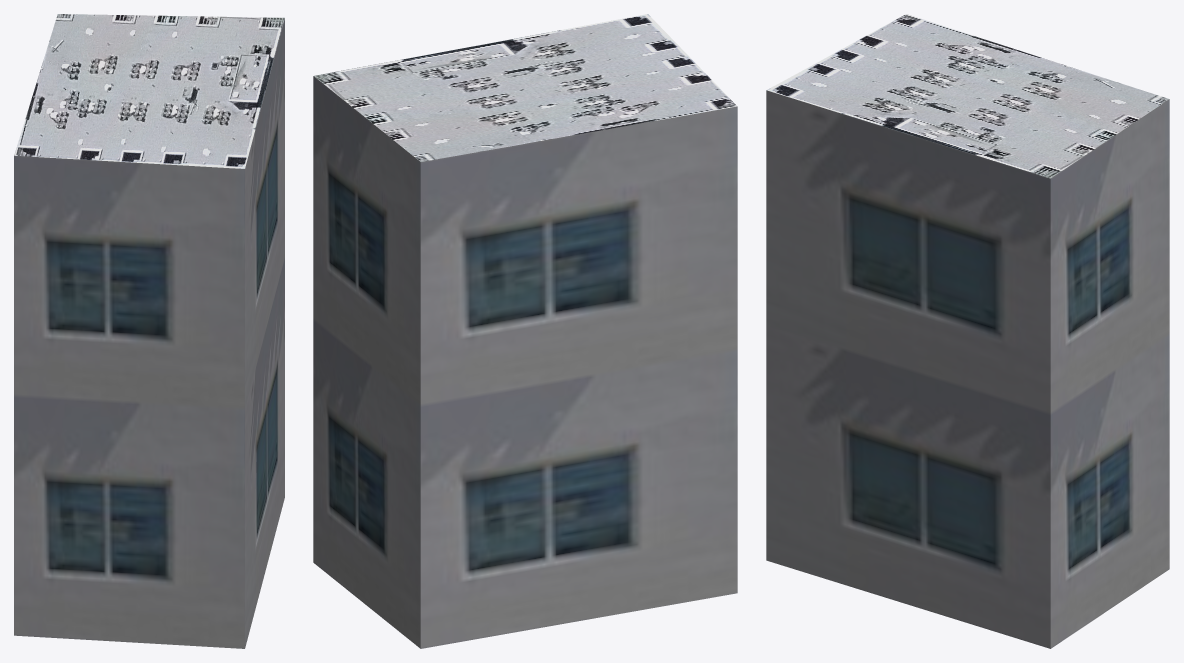
Rendered from ResTex__477.fbx.
3 renders of one model, left to right at view 1: azimuth 30°, elevation 25°; view 2: azimuth 150°, elevation 25°; view 3: azimuth 270°, elevation 25°, orthographic. The views are drawn at different scales.
Visible parts, largest first — view 1: CityEngineMaterial_10_m, CityEngineMaterial_4_m; view 2: CityEngineMaterial_10_m, CityEngineMaterial_4_m; view 3: CityEngineMaterial_10_m, CityEngineMaterial_4_m.
Boxes of the visible parts, <box> form: CityEngineMaterial_10_m: <box>14,18,284,648</box>; CityEngineMaterial_4_m: <box>14,14,284,168</box>; CityEngineMaterial_10_m: <box>313,76,737,648</box>; CityEngineMaterial_4_m: <box>314,14,737,161</box>; CityEngineMaterial_10_m: <box>766,90,1169,648</box>; CityEngineMaterial_4_m: <box>767,14,1168,178</box>.
Size of the model in its own units: 4.51 by 6 by 4.66.
2 materials, 2 textured.
